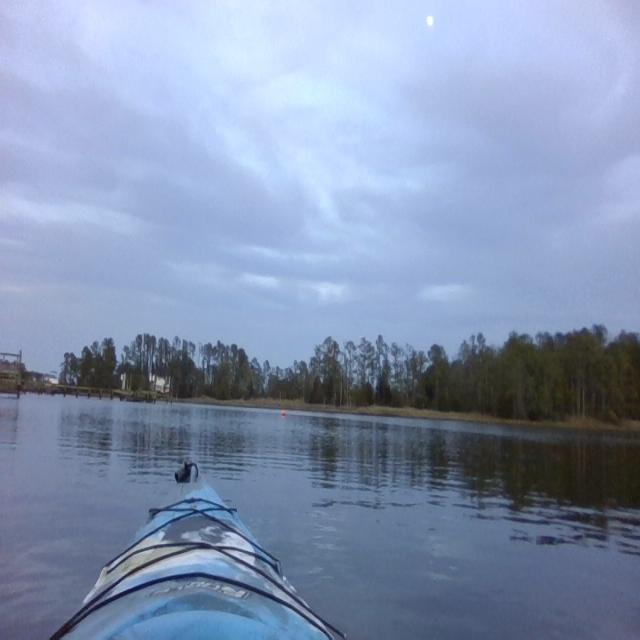Buoy: (280, 408, 286, 417)
